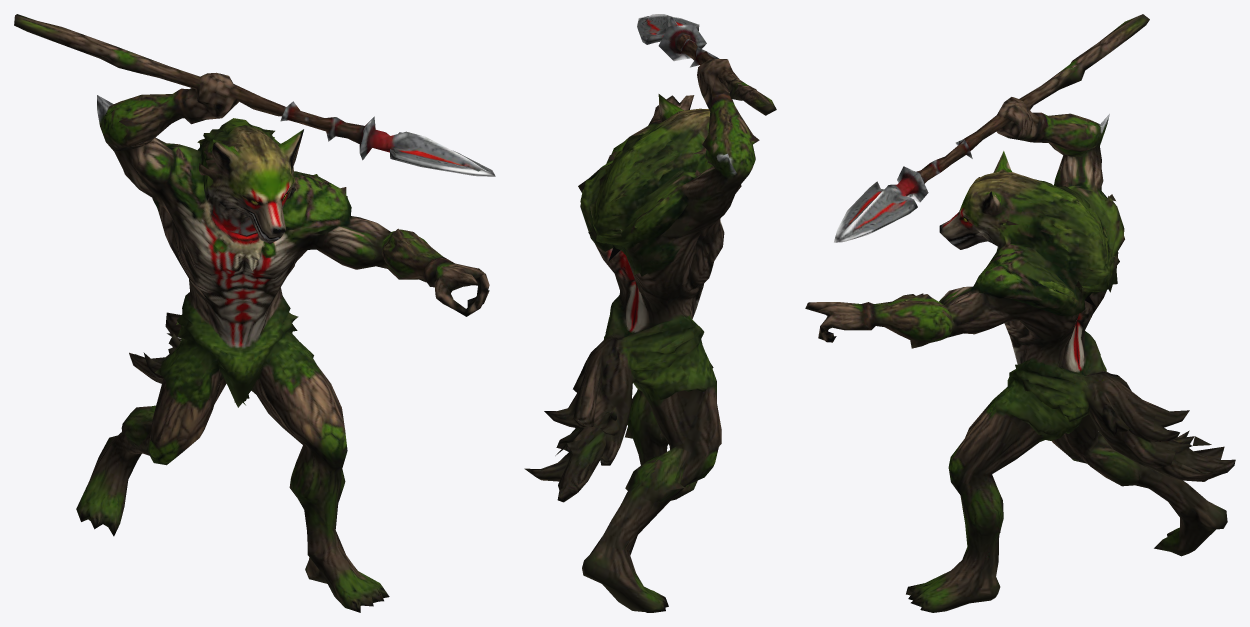
Rendered from fangthrowers__beasts_thorn_wild_strike.glb.
The picture shows the model from 3 angles, left to right: view 1: azimuth 30°, elevation 25°; view 2: azimuth 150°, elevation 25°; view 3: azimuth 270°, elevation 25°; orthographic projection. The views are drawn at different scales.
Visible parts, largest first — view 1: world; view 2: world; view 3: world.
Boxes of the visible parts, x1,y1,x2,y2 form: world: (14, 14, 495, 612); world: (524, 14, 776, 612); world: (805, 14, 1235, 612).
Size of the model in its own units: 0.5834 by 0.9916 by 0.7843.
Materials: 1 (1 with a texture image).
